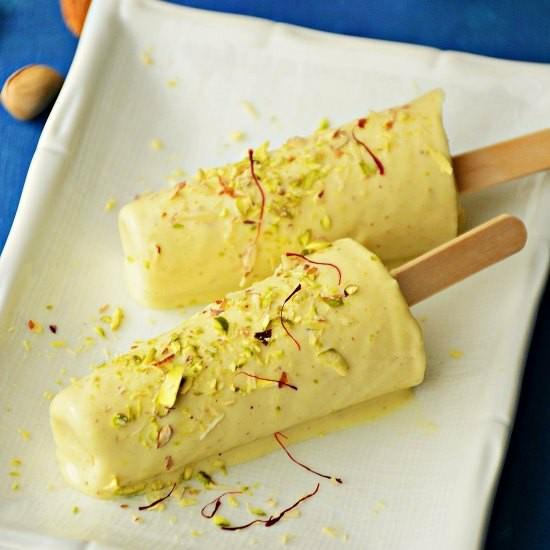Kulfi: (46, 233, 428, 497), (119, 90, 457, 319)
